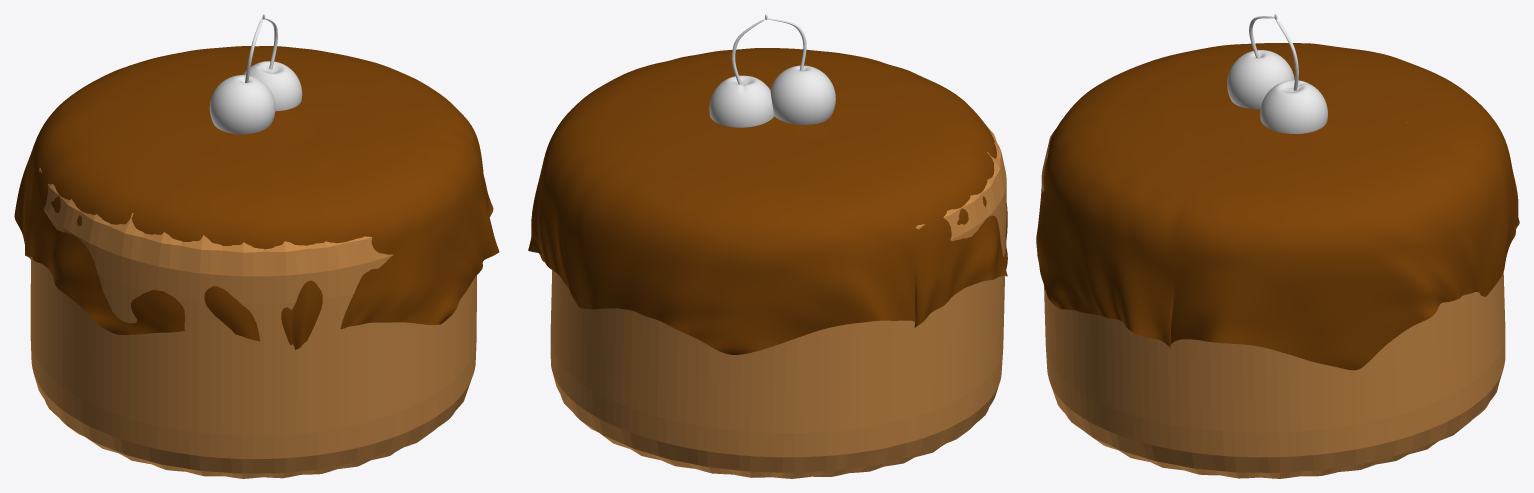
The model's file is Cake.fbx.
3 views of the same model, side by side, from view 1: azimuth 30°, elevation 25°; view 2: azimuth 150°, elevation 25°; view 3: azimuth 270°, elevation 25° (orthographic). The views are drawn at different scales.
Visible parts, largest first — view 1: Плоскость, Цилиндр, Сфера, Сфера.001; view 2: Плоскость, Цилиндр, Сфера, Сфера.001; view 3: Плоскость, Цилиндр, Сфера.001, Сфера.
Part boxes in pixels (left/top/right/bottom): Плоскость: left=14, top=46, right=499, bottom=349; Цилиндр: left=30, top=167, right=476, bottom=478; Сфера: left=209, top=75, right=275, bottom=134; Сфера.001: left=243, top=61, right=302, bottom=111; Плоскость: left=528, top=48, right=1007, bottom=354; Цилиндр: left=550, top=124, right=1006, bottom=478; Сфера: left=770, top=65, right=835, bottom=124; Сфера.001: left=709, top=75, right=774, bottom=127; Плоскость: left=1036, top=43, right=1519, bottom=370; Цилиндр: left=1041, top=119, right=1505, bottom=478; Сфера.001: left=1260, top=80, right=1327, bottom=133; Сфера: left=1227, top=50, right=1294, bottom=109.
Size of the model in its own units: 411 by 368 by 401.
